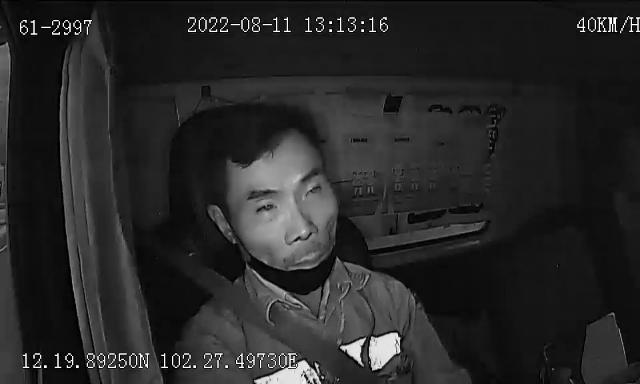SafeDriving: (419, 96, 466, 122), (296, 174, 327, 207), (250, 192, 285, 218)
Seatbelt: (184, 258, 390, 384)
